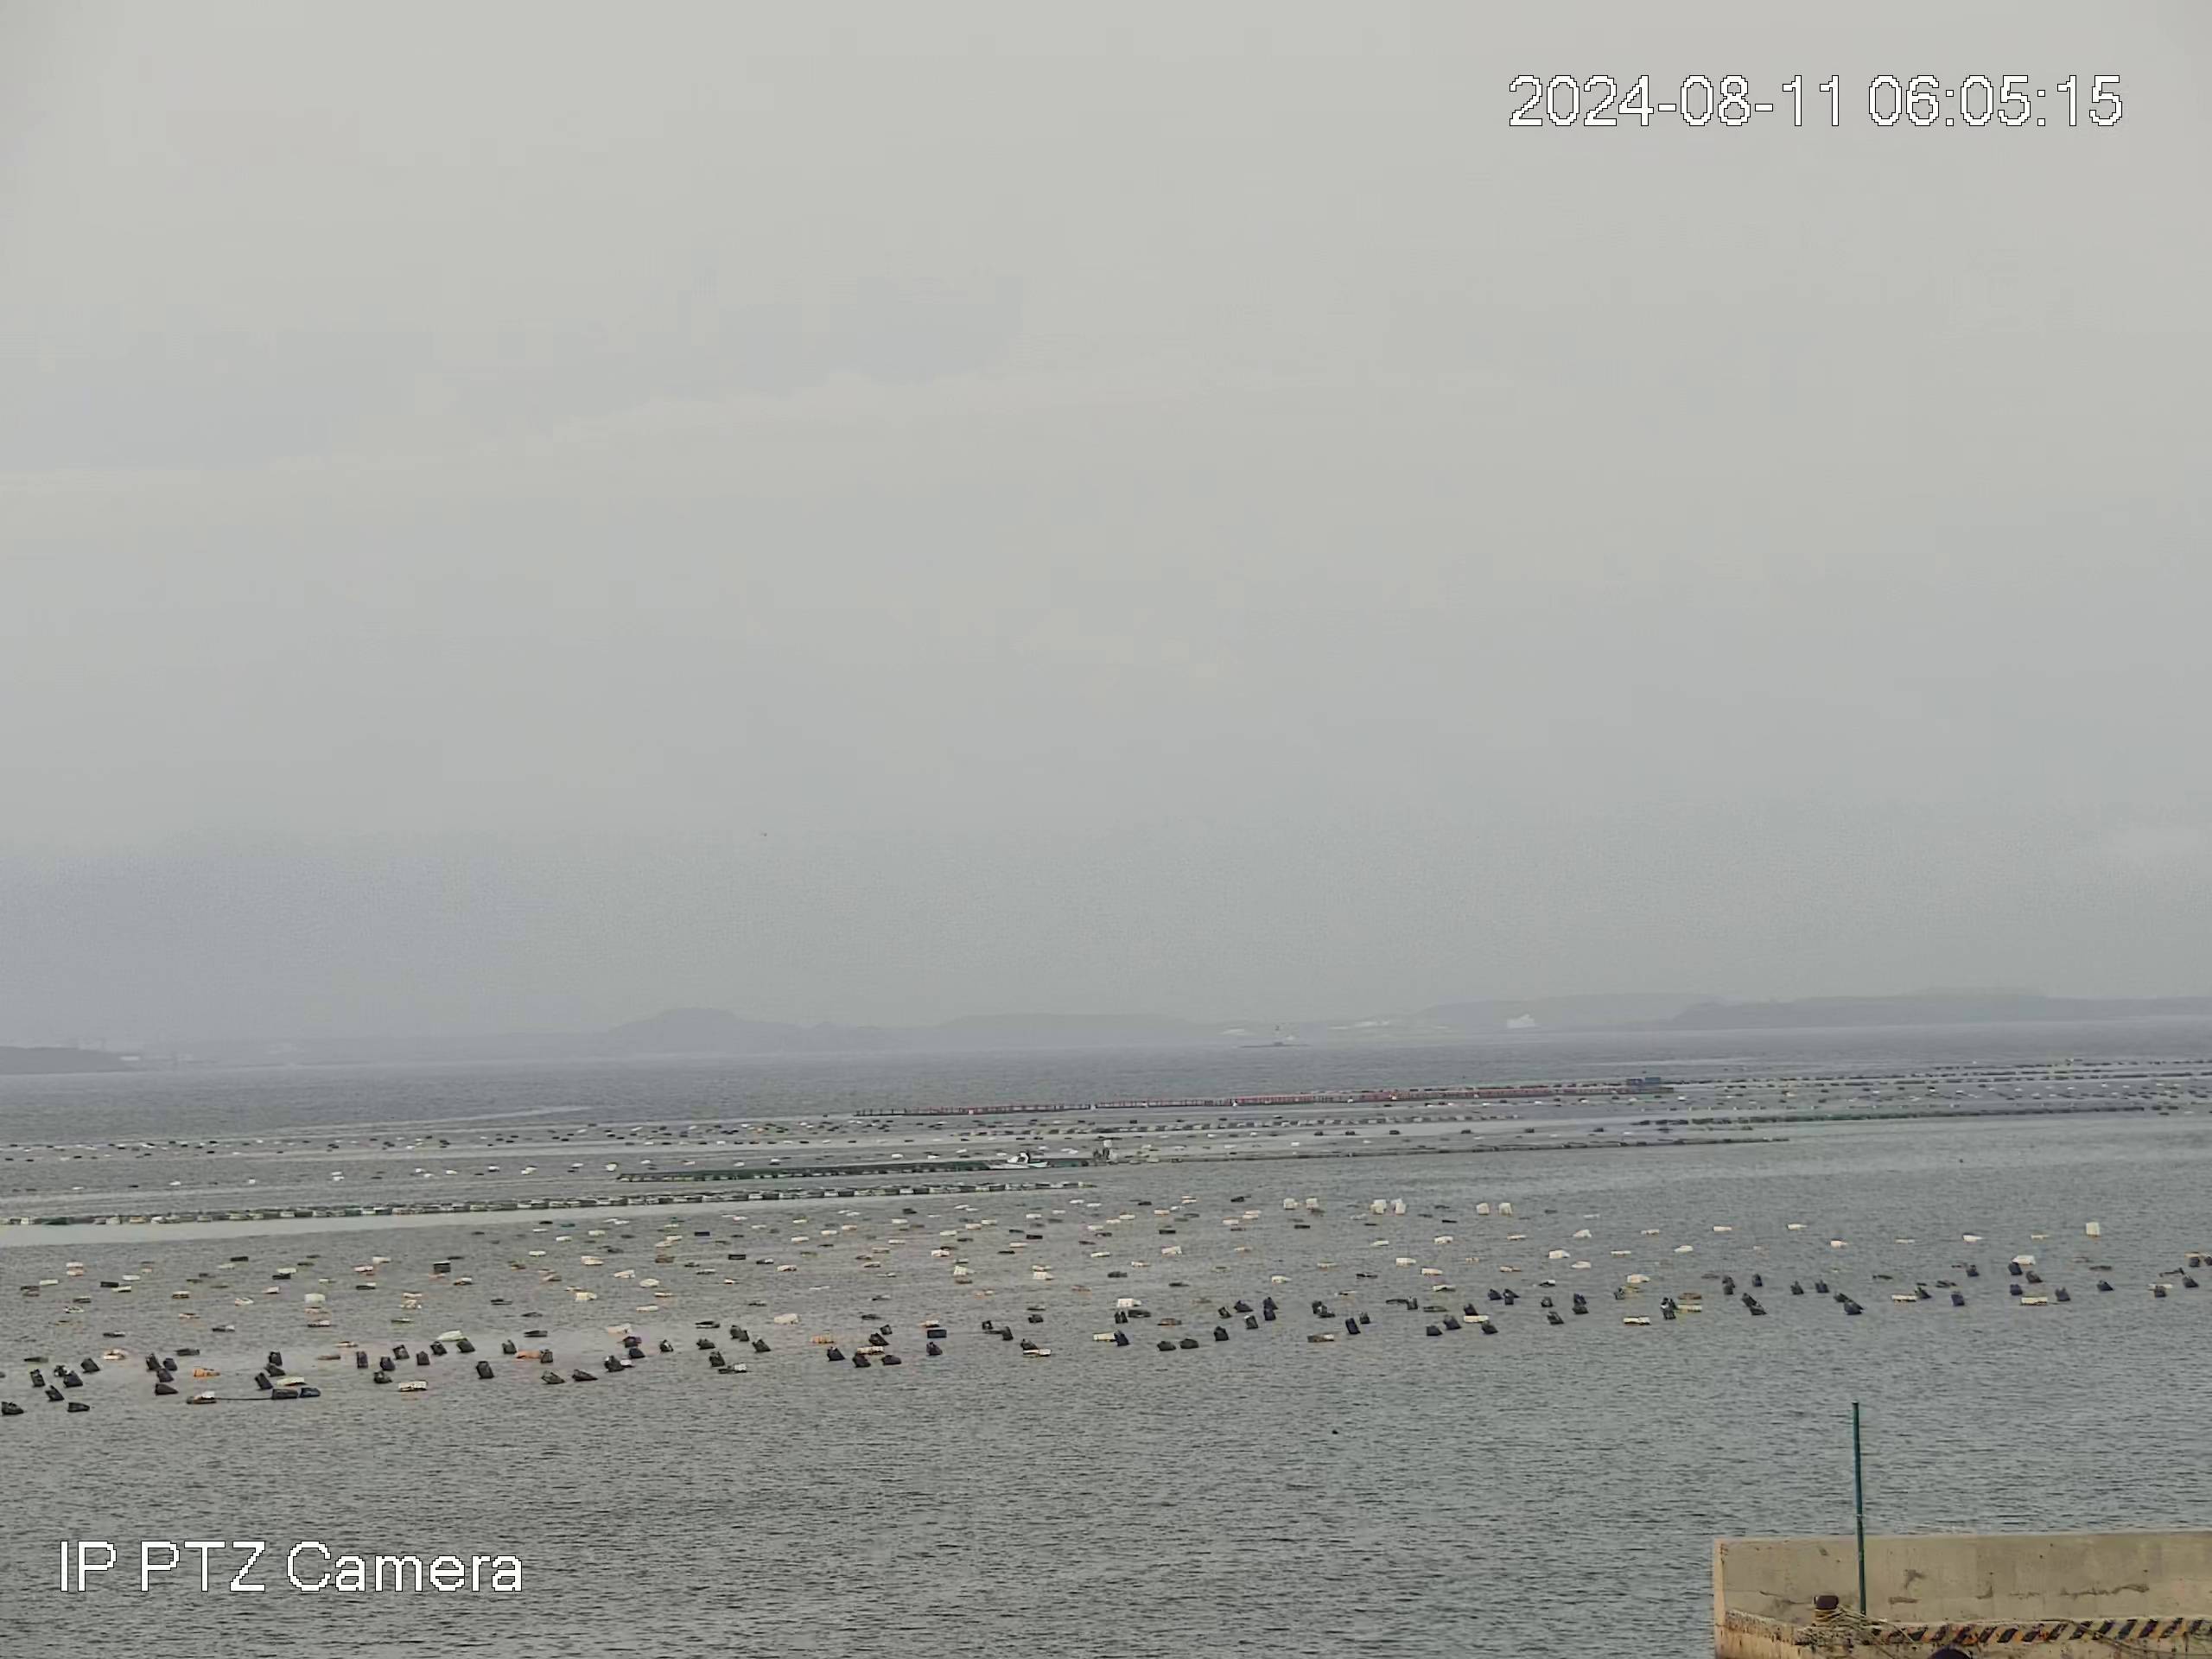boat: (981, 1148, 1049, 1171)
